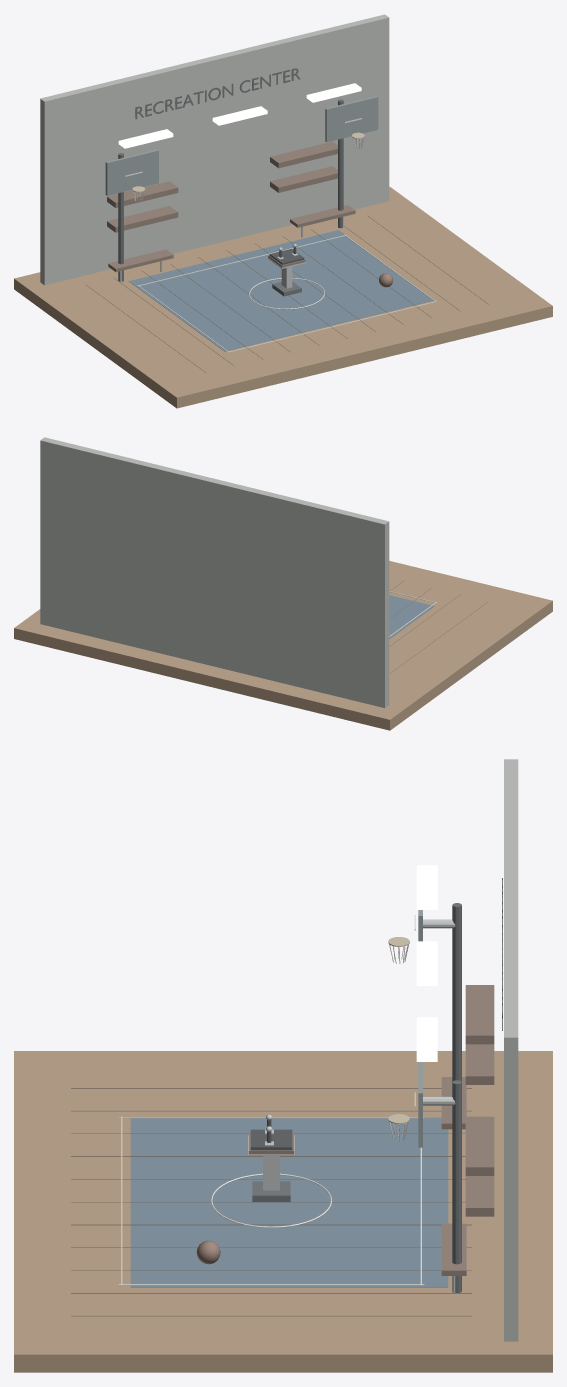
The model's file is basketball_slap_stage.glb.
The picture shows the model from 3 angles, top to bottom: view 1: azimuth 30°, elevation 25°; view 2: azimuth 150°, elevation 25°; view 3: azimuth 270°, elevation 25°; orthographic projection. The views are drawn at different scales.
Visible parts, largest first — view 1: Basketball gym far wall, Dry finished floor, CENTER COURT COLOR BLOCK, Laminated glass backboard, Laminated glass backboard.001, REGULATION COURT SIGN, Gym wood bleacher tier.003, Gym wood bleacher tier.002, Gym wood bleacher tier, Gym wood bleacher tier.001, Courtside bleacher padded bench.001, Courtside bleacher padded bench (+5 smaller); view 2: Basketball gym far wall, Dry finished floor, CENTER COURT COLOR BLOCK; view 3: Dry finished floor, CENTER COURT COLOR BLOCK, Basketball gym far wall, Hoop metal ground support.001, Gym wood bleacher tier.001, Gym wood bleacher tier.003, Hoop metal ground support, Gym wood bleacher tier, Gym wood bleacher tier.002, Courtside bleacher padded bench.001, Gym rectangular practical LED, Gym rectangular practical LED.001 (+5 smaller).
Part boxes in pixels (left/top/right/bottom): Basketball gym far wall: left=40, top=14, right=389, bottom=285; Dry finished floor: left=14, top=187, right=552, bottom=408; CENTER COURT COLOR BLOCK: left=129, top=230, right=433, bottom=351; Laminated glass backboard: left=105, top=149, right=158, bottom=195; Laminated glass backboard.001: left=325, top=96, right=378, bottom=142; REGULATION COURT SIGN: left=135, top=68, right=300, bottom=119; Gym wood bleacher tier.003: left=270, top=141, right=337, bottom=168; Gym wood bleacher tier.002: left=270, top=166, right=337, bottom=192; Gym wood bleacher tier: left=107, top=206, right=178, bottom=232; Gym wood bleacher tier.001: left=107, top=181, right=178, bottom=207; Courtside bleacher padded bench.001: left=290, top=205, right=355, bottom=227; Courtside bleacher padded bench: left=108, top=249, right=173, bottom=271; Basketball gym far wall: left=40, top=437, right=389, bottom=707; Dry finished floor: left=14, top=561, right=552, bottom=730; CENTER COURT COLOR BLOCK: left=389, top=595, right=434, bottom=638; Dry finished floor: left=14, top=1051, right=552, bottom=1372; CENTER COURT COLOR BLOCK: left=130, top=1117, right=448, bottom=1287; Basketball gym far wall: left=504, top=759, right=518, bottom=1341; Hoop metal ground support.001: left=452, top=1080, right=461, bottom=1292; Gym wood bleacher tier.001: left=465, top=985, right=494, bottom=1044; Gym wood bleacher tier.003: left=465, top=1116, right=494, bottom=1175; Hoop metal ground support: left=452, top=903, right=461, bottom=1081; Gym wood bleacher tier: left=465, top=1044, right=494, bottom=1084; Gym wood bleacher tier.002: left=465, top=1176, right=494, bottom=1216; Courtside bleacher padded bench.001: left=441, top=1223, right=466, bottom=1275; Gym rectangular practical LED: left=416, top=865, right=437, bottom=909; Gym rectangular practical LED.001: left=416, top=941, right=437, bottom=985.
Bounding box in the file's own units: 12 × 5.93 × 9.
